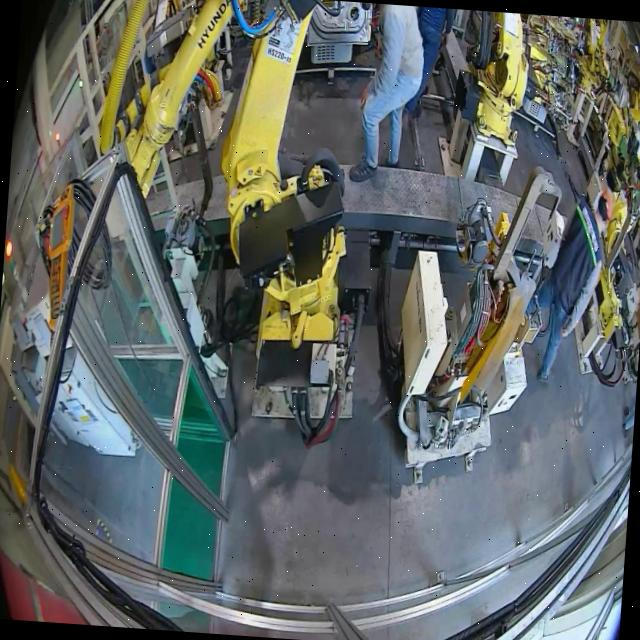Person: (528, 175, 615, 386), (348, 2, 428, 186), (402, 6, 454, 122)
